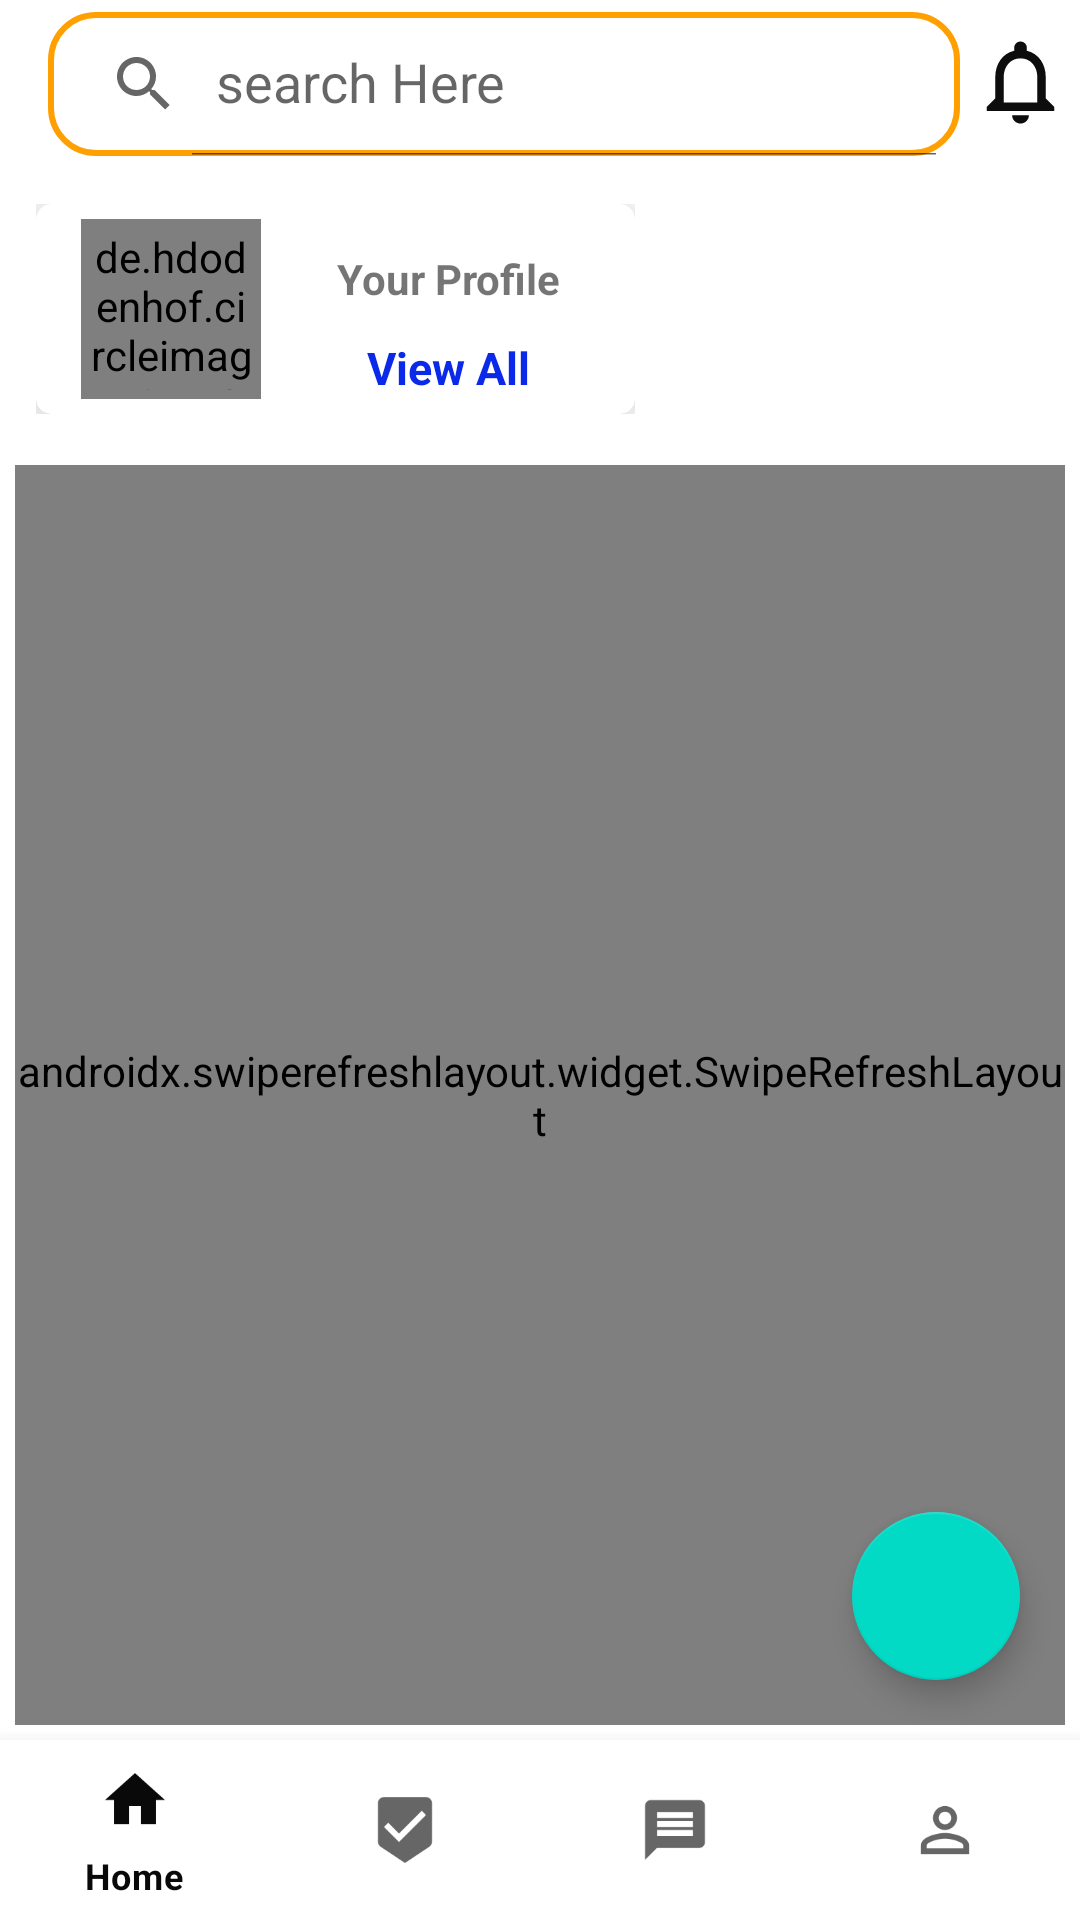

Point at icon controls on the screen. Image size 1080px x 1920px, points as (x=x, y=y).
notifications none: (x=1020, y=82)
